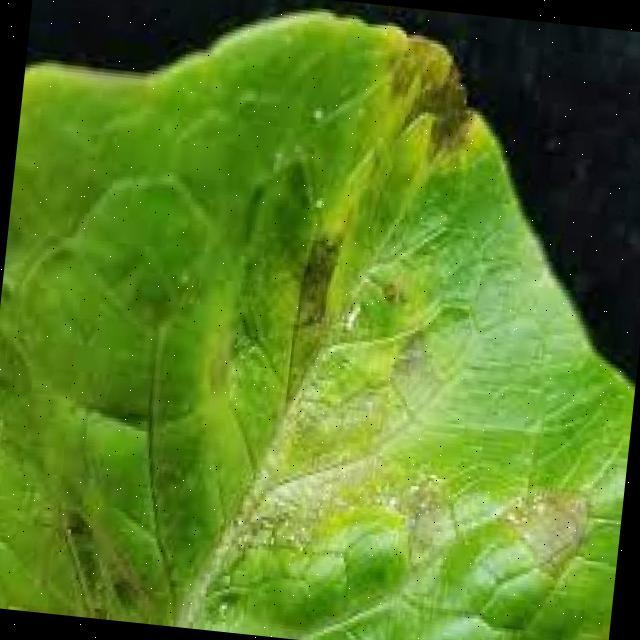Downy_Mildew: (160, 152, 507, 640)
